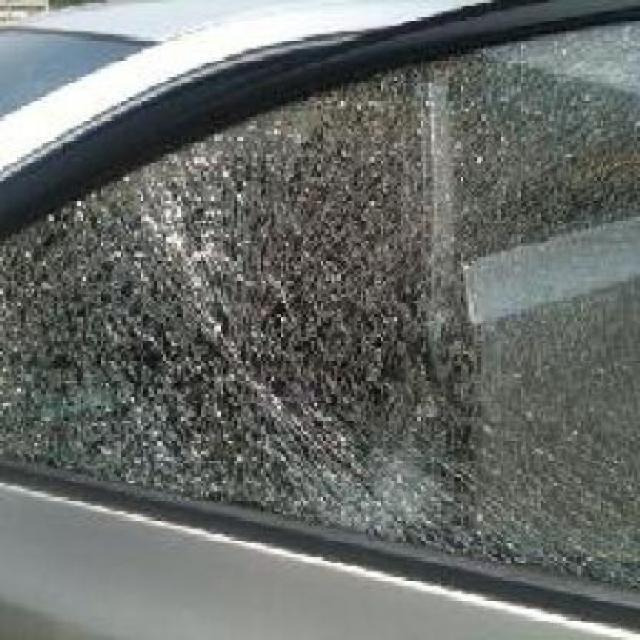damaged-window: (8, 6, 638, 614)
